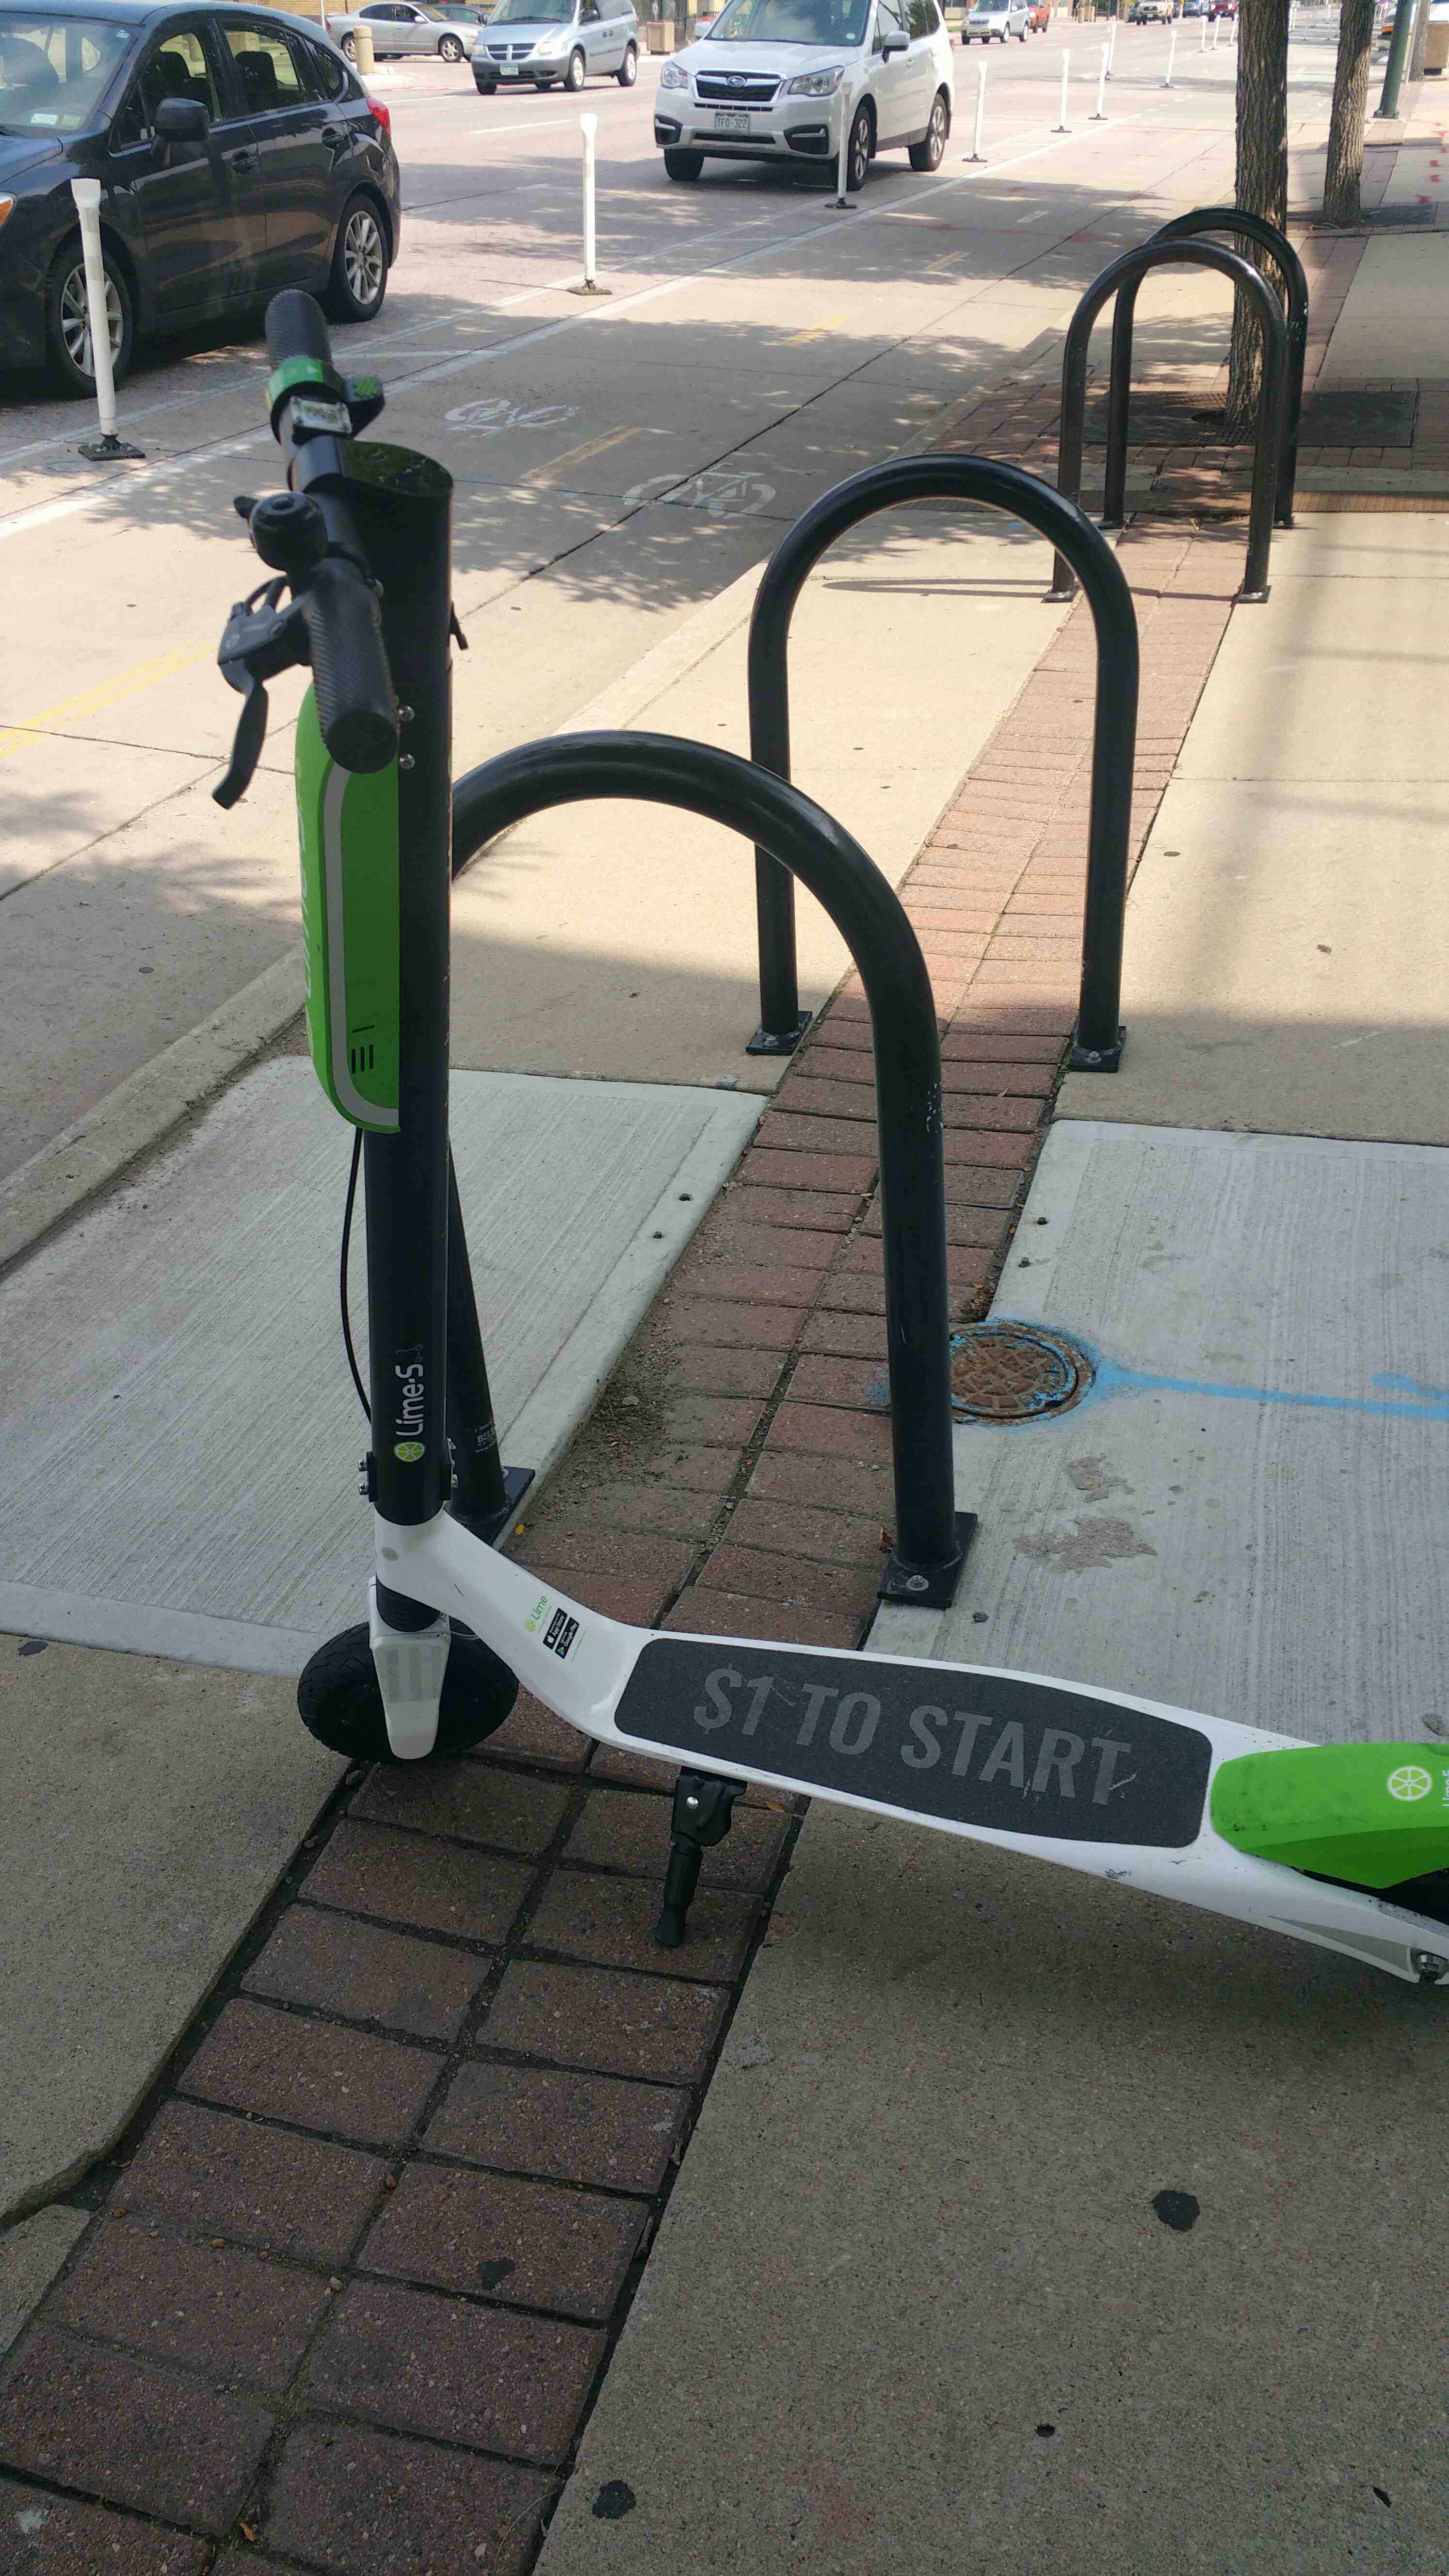scooter: (180, 258, 1449, 2022)
